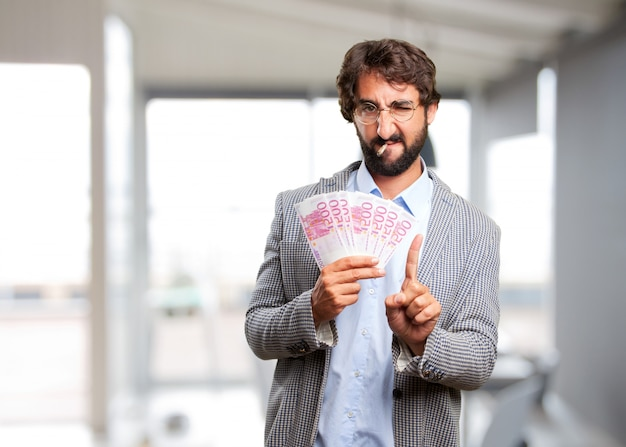cigarette: (375, 143, 389, 157)
